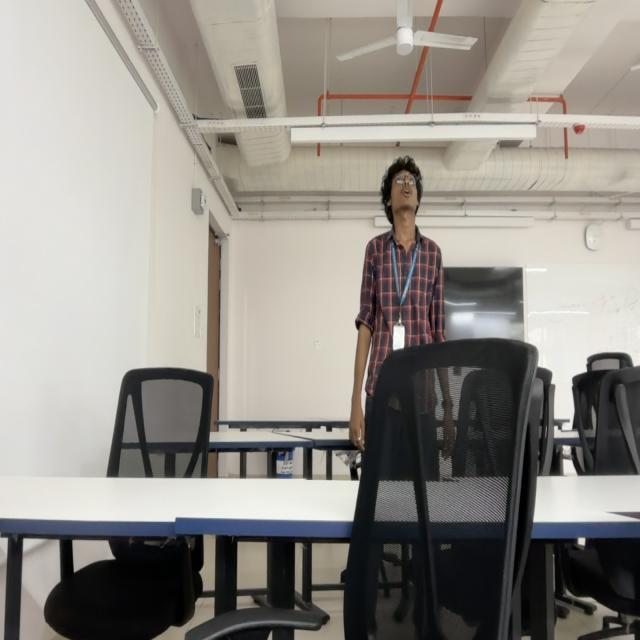darshan: (376, 149, 428, 219)
